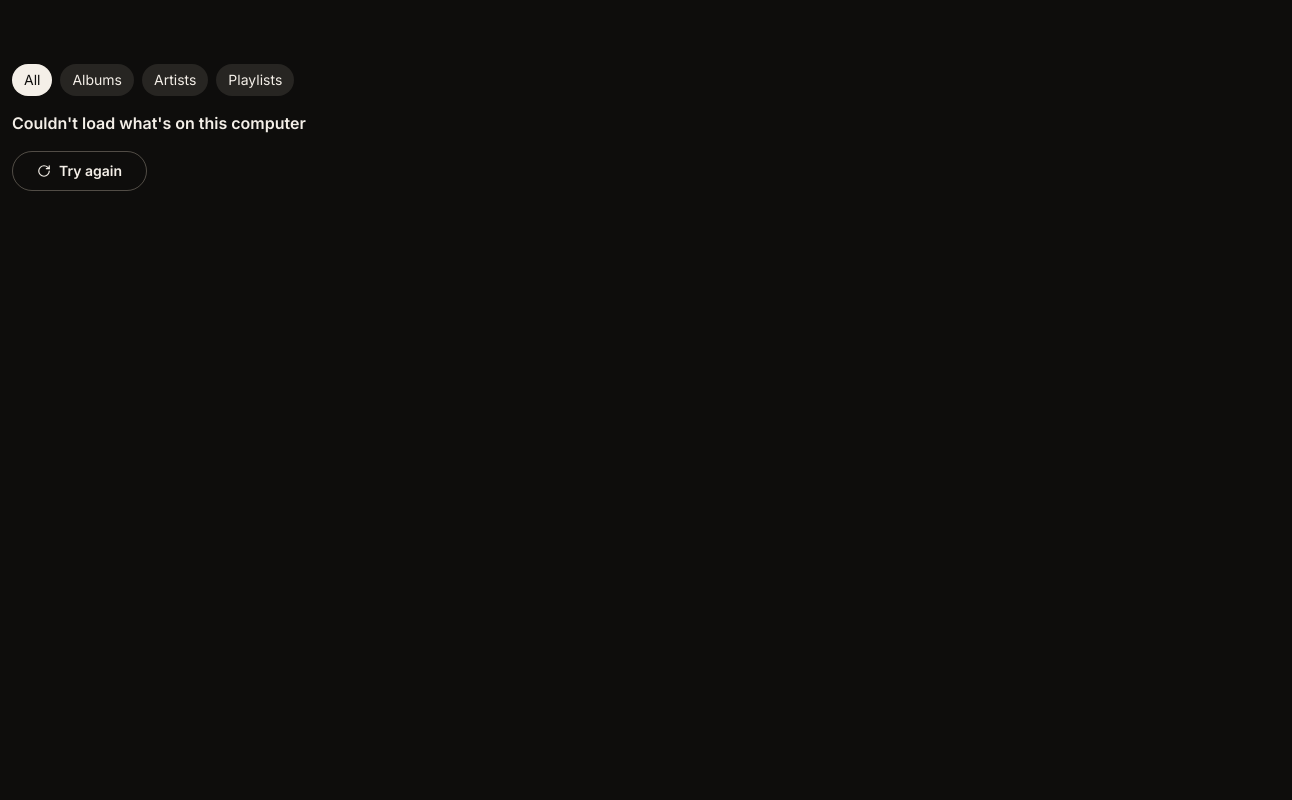
Home offline › couldn't read what's on this computer: says so with Try again, not 'nothing here'
This screenshot has width=1292, height=800.
Expected: the text "Couldn't load what's on this computer" is shown, [12, 112, 306, 135]
Click the button "Try again". click: coordinates (80, 171)
box: [12, 151, 147, 191]
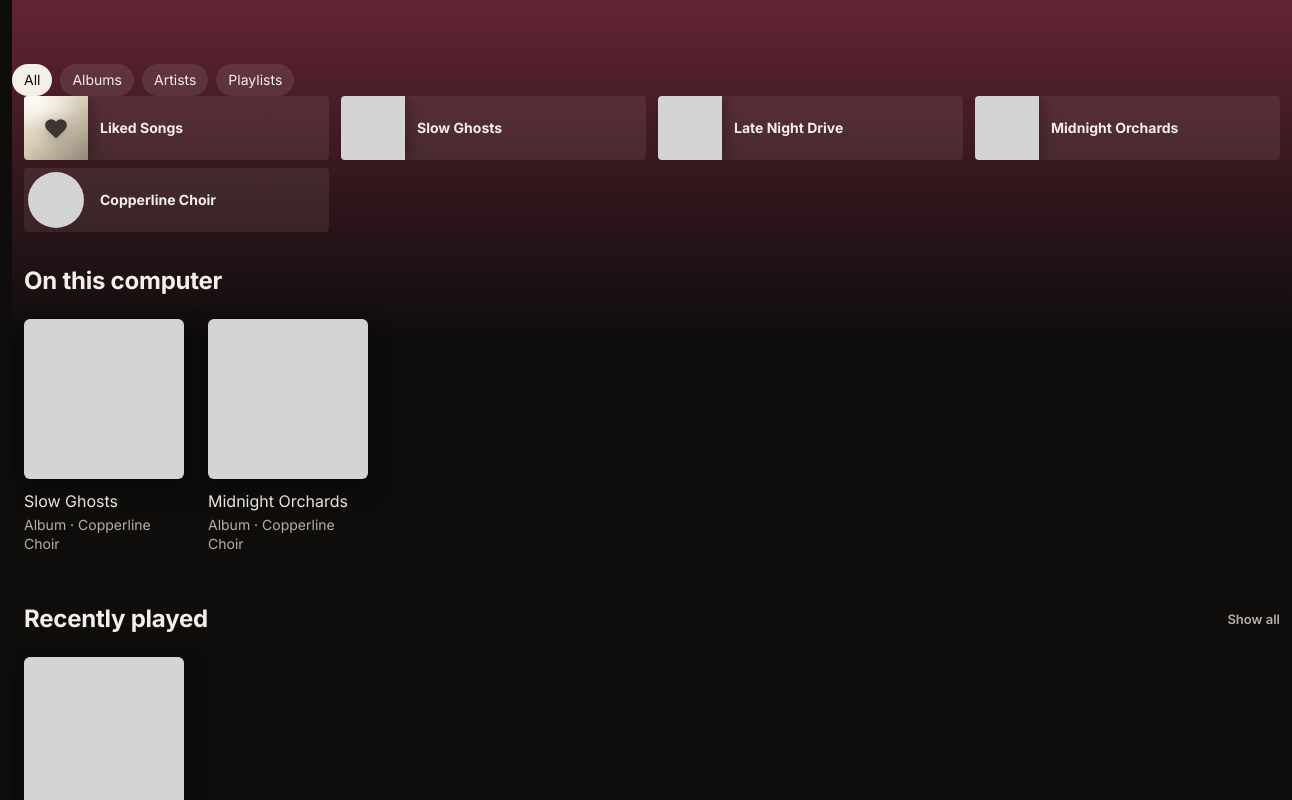
Expected: the element "On this computer" is shown, [24, 266, 368, 552]
